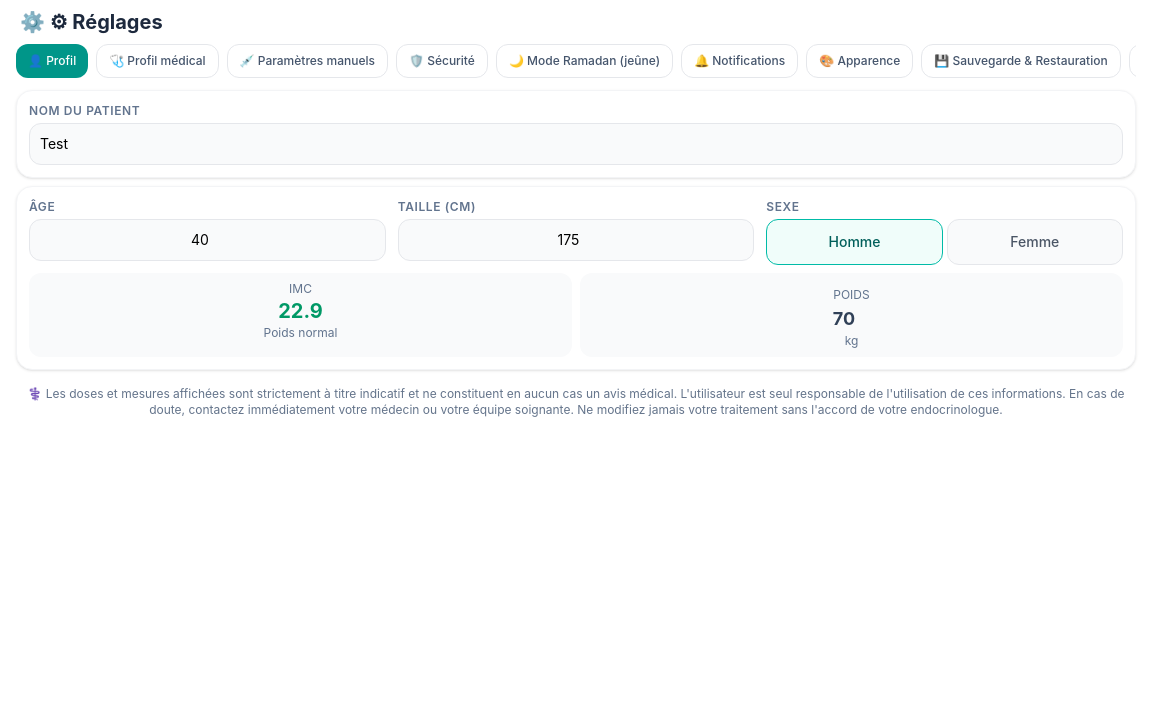
Scenario: Settings › mode Ramadan : risque et plan
Click the button "🌙 Mode Ramadan (jeûne)" at (585, 61), box [496,44,673,78]
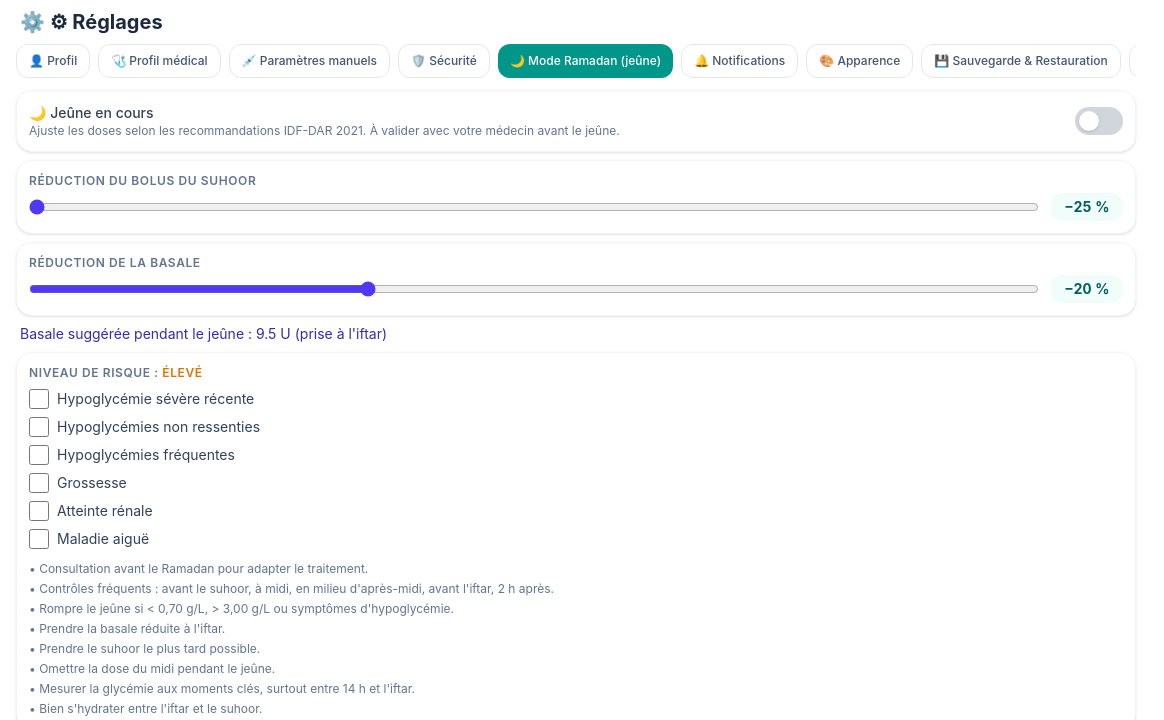
Check: the text "Élevé" is shown, box [162,365,203,380]
Click the checkbox labelled "Hypoglycémie sévère récente" at (39, 399), box [29,389,49,409]
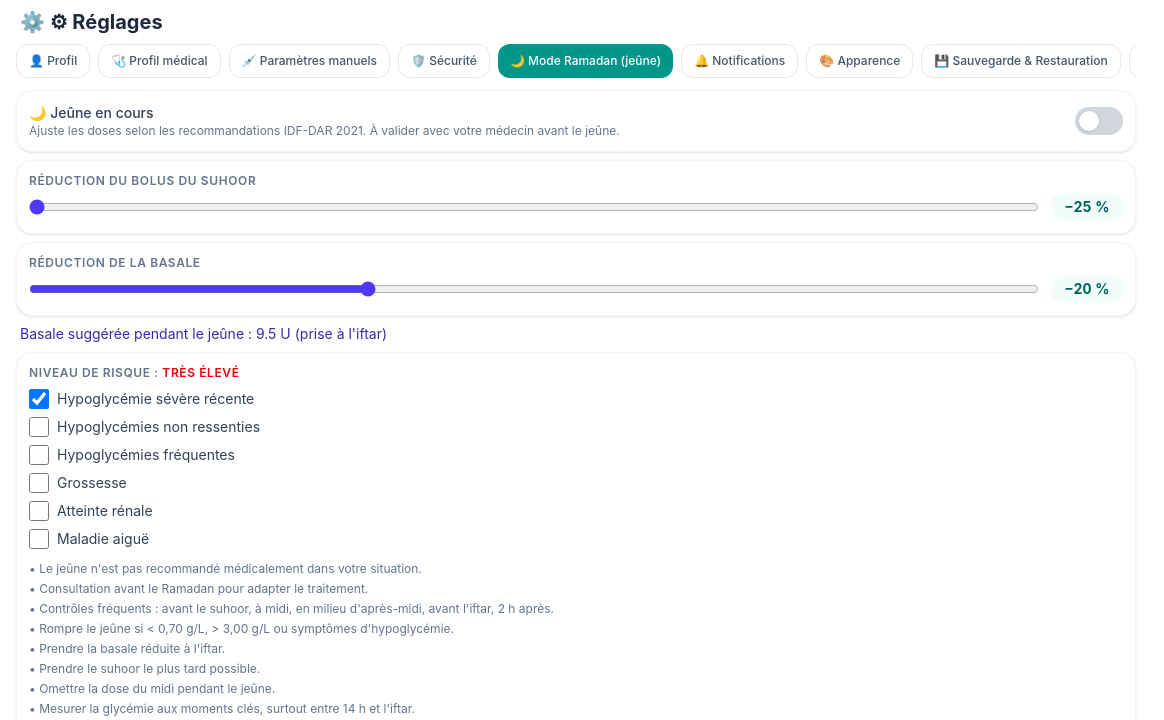
Check: the text "Basale suggérée pendant le jeûne : 9.5 U (prise à l'iftar)" is shown, box [20,325,387,342]
Check: the text "Très élevé" is shown, box [162,365,240,380]
